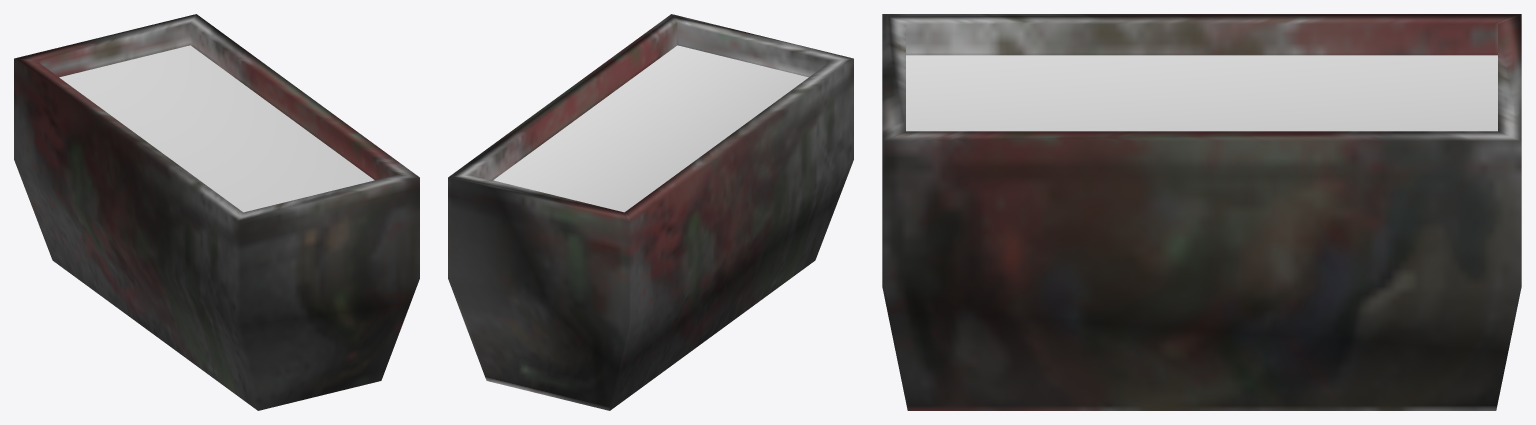
Rendered from Container.fbx.
3 renders of one model, left to right at view 1: azimuth 30°, elevation 25°; view 2: azimuth 150°, elevation 25°; view 3: azimuth 270°, elevation 25°, orthographic. The views are drawn at different scales.
Visible parts, largest first — view 1: Cube.030; view 2: Cube.030; view 3: Cube.030.
Part boxes in pixels (bbox=[...]): Cube.030: bbox=[14, 14, 419, 410]; Cube.030: bbox=[448, 14, 853, 410]; Cube.030: bbox=[882, 14, 1521, 410].
Bounding box in the file's own units: 286 × 303 × 606.
